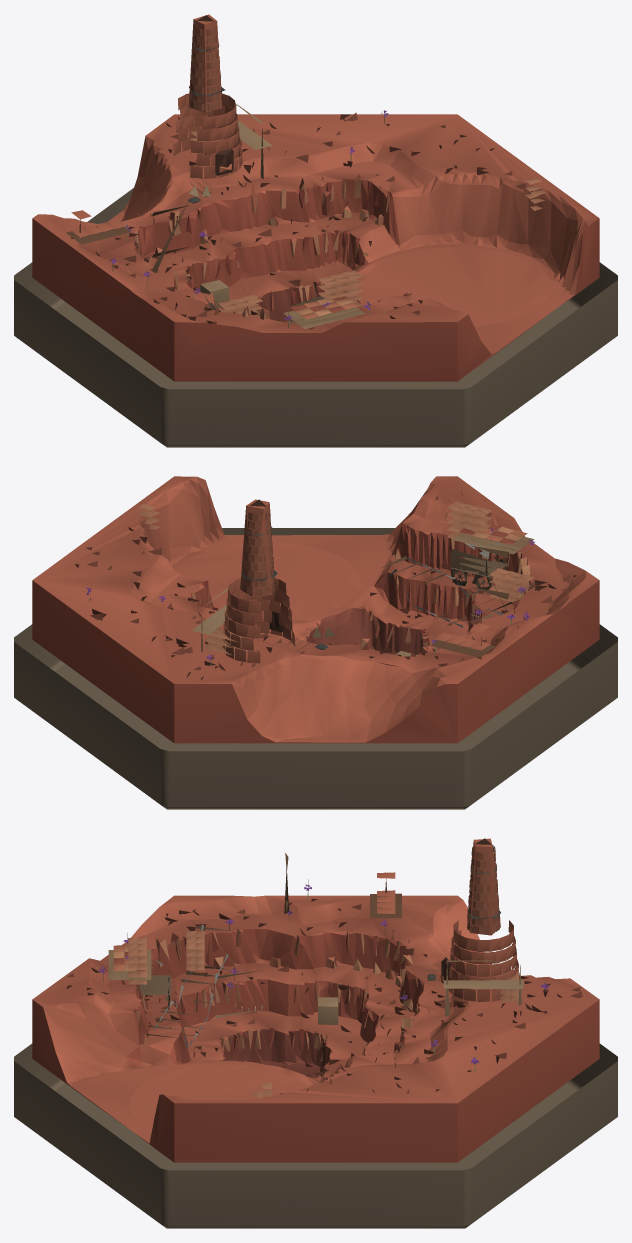
Rendered from tile_clay_lod0.glb.
The picture shows the model from 3 angles, top to bottom: view 1: azimuth 30°, elevation 25°; view 2: azimuth 150°, elevation 25°; view 3: azimuth 270°, elevation 25°; orthographic projection.
Parts seen in each view (by area): view 1: tile_clay_LOD0; view 2: tile_clay_LOD0; view 3: tile_clay_LOD0.
Boxes of the visible parts, bbox=[...] form: tile_clay_LOD0: bbox=[14, 14, 617, 447]; tile_clay_LOD0: bbox=[14, 476, 617, 809]; tile_clay_LOD0: bbox=[14, 838, 617, 1228].
Bounding box in the file's own units: 1.73 × 0.957 × 1.98.
